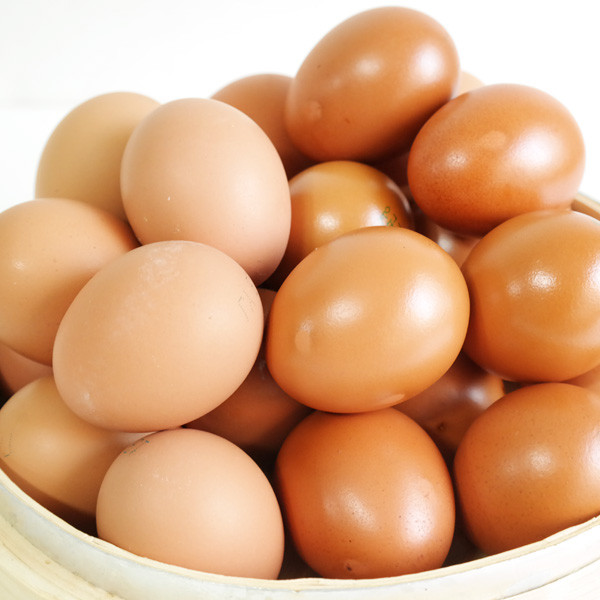egg: (3, 4, 600, 579)
